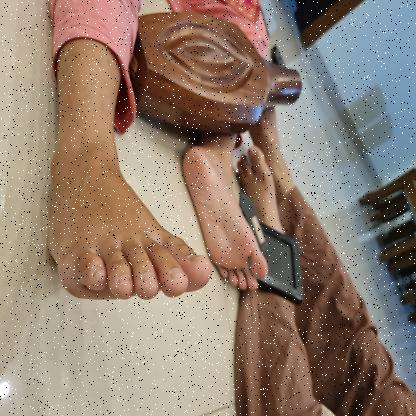leg: (44, 42, 216, 307), (176, 126, 271, 299), (235, 139, 285, 235)
